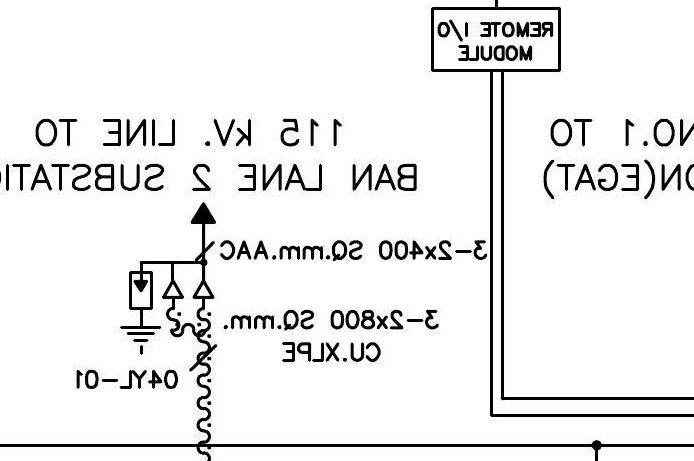115_la: (119, 270, 162, 356)
remote_io_module: (431, 7, 562, 73)
terminator_double: (161, 260, 216, 300)
